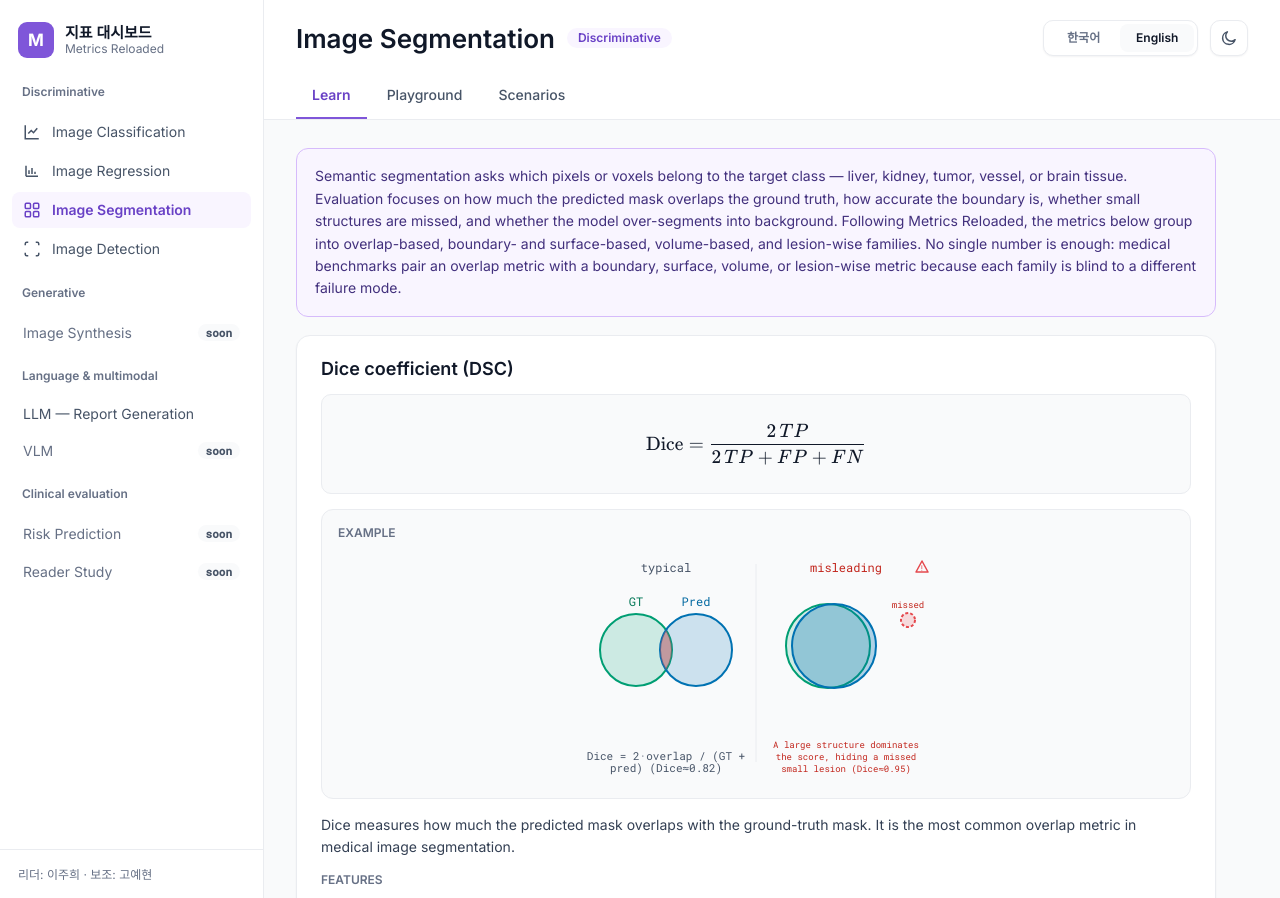
Test case: App shell › switches the active topic when Image Detection is selected
The image size is (1280, 898).
Click the button "Image Detection" at coordinates (132, 249), box [12, 231, 251, 267]
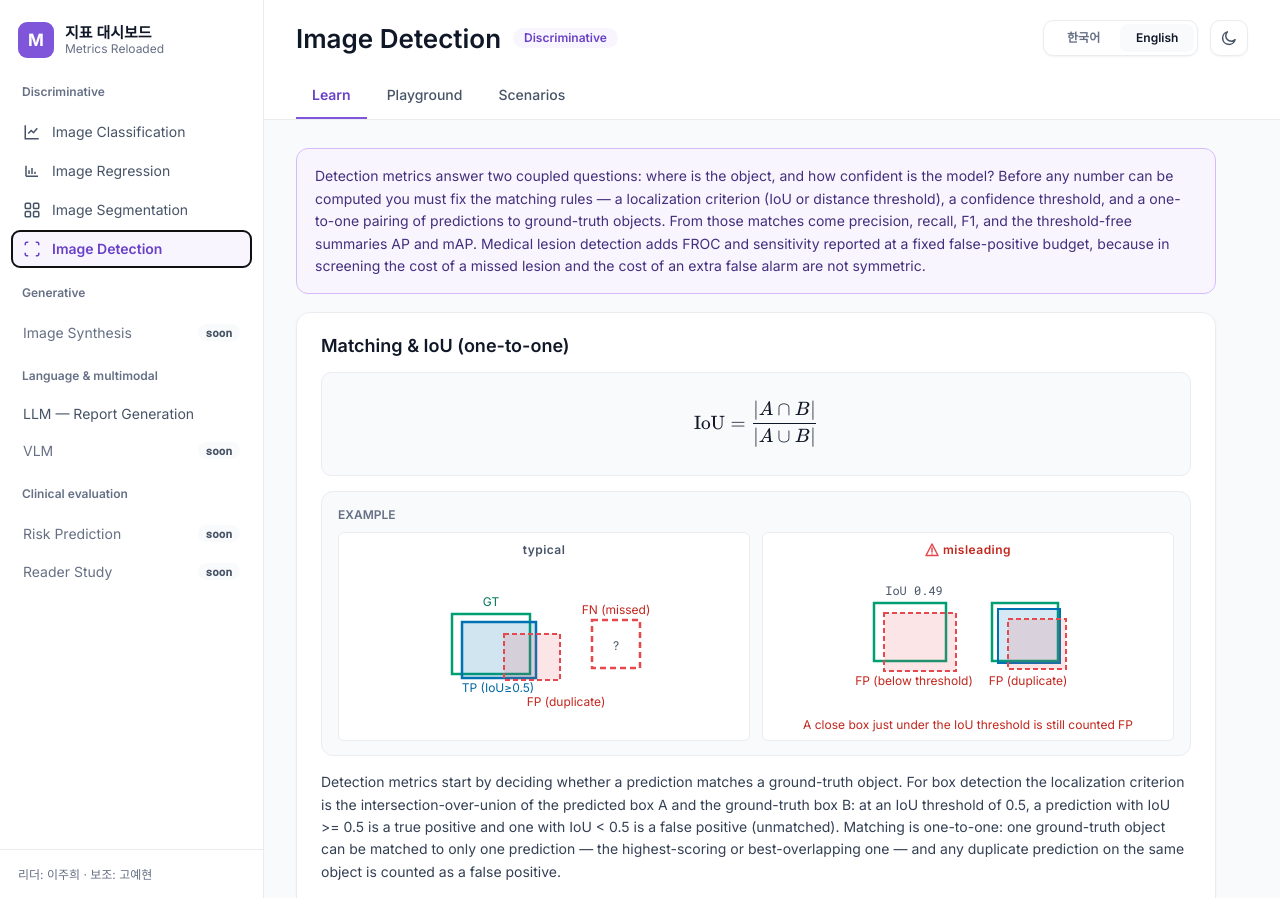
Expected: the heading "Image Detection" is shown, [296, 23, 501, 54]
